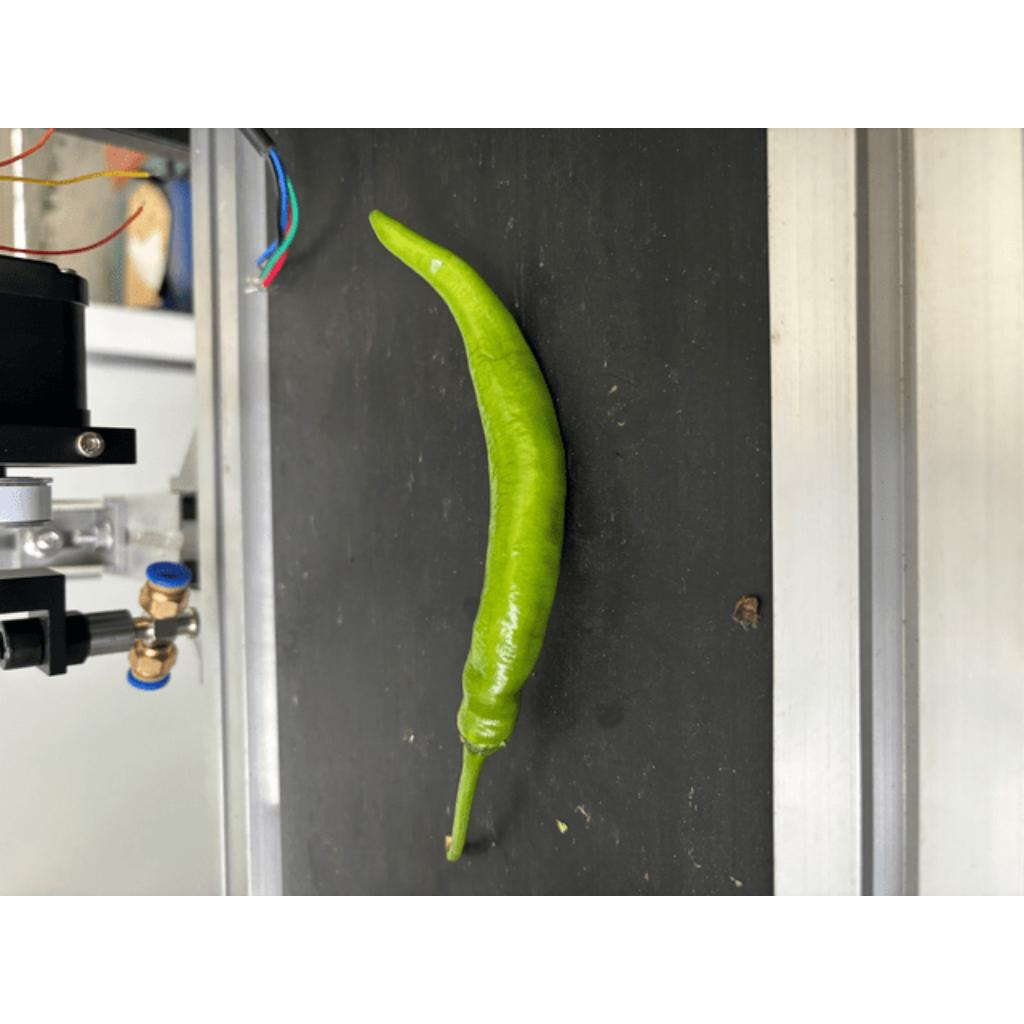chili: (365, 203, 568, 759)
